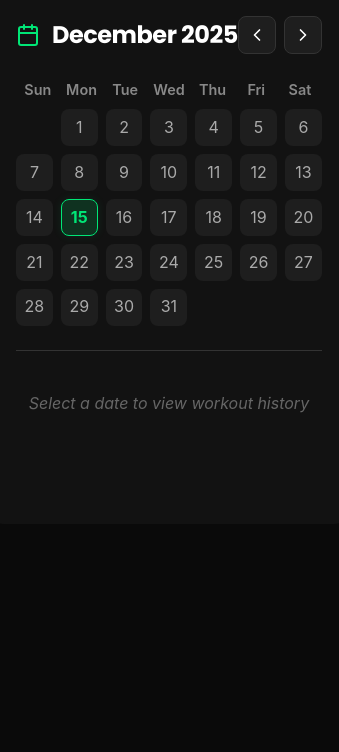
WorkoutCalendar › shows workout details when a day is clicked
Click the text "15": (79, 218) [71,205,88,230]
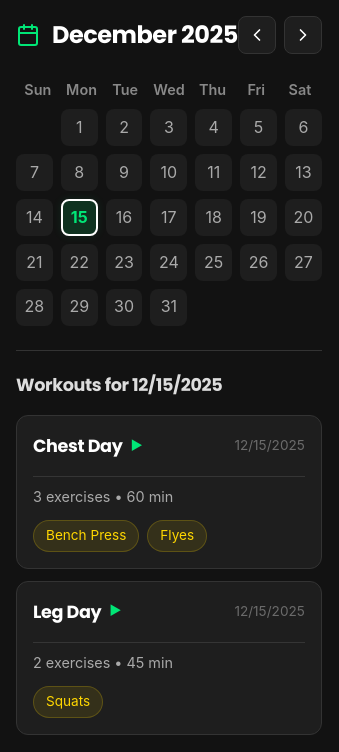
Result: the heading "Workouts for 12/15/2025" is shown at [16,373,222,397]
Result: the heading "Chest Day ▶" is shown at [33,432,142,460]
Result: the heading "Leg Day ▶" is shown at [33,598,121,626]
